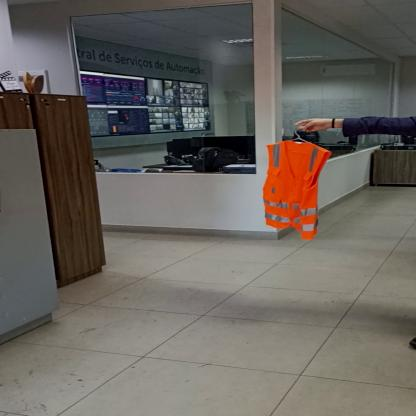colete: (259, 139, 328, 242)
